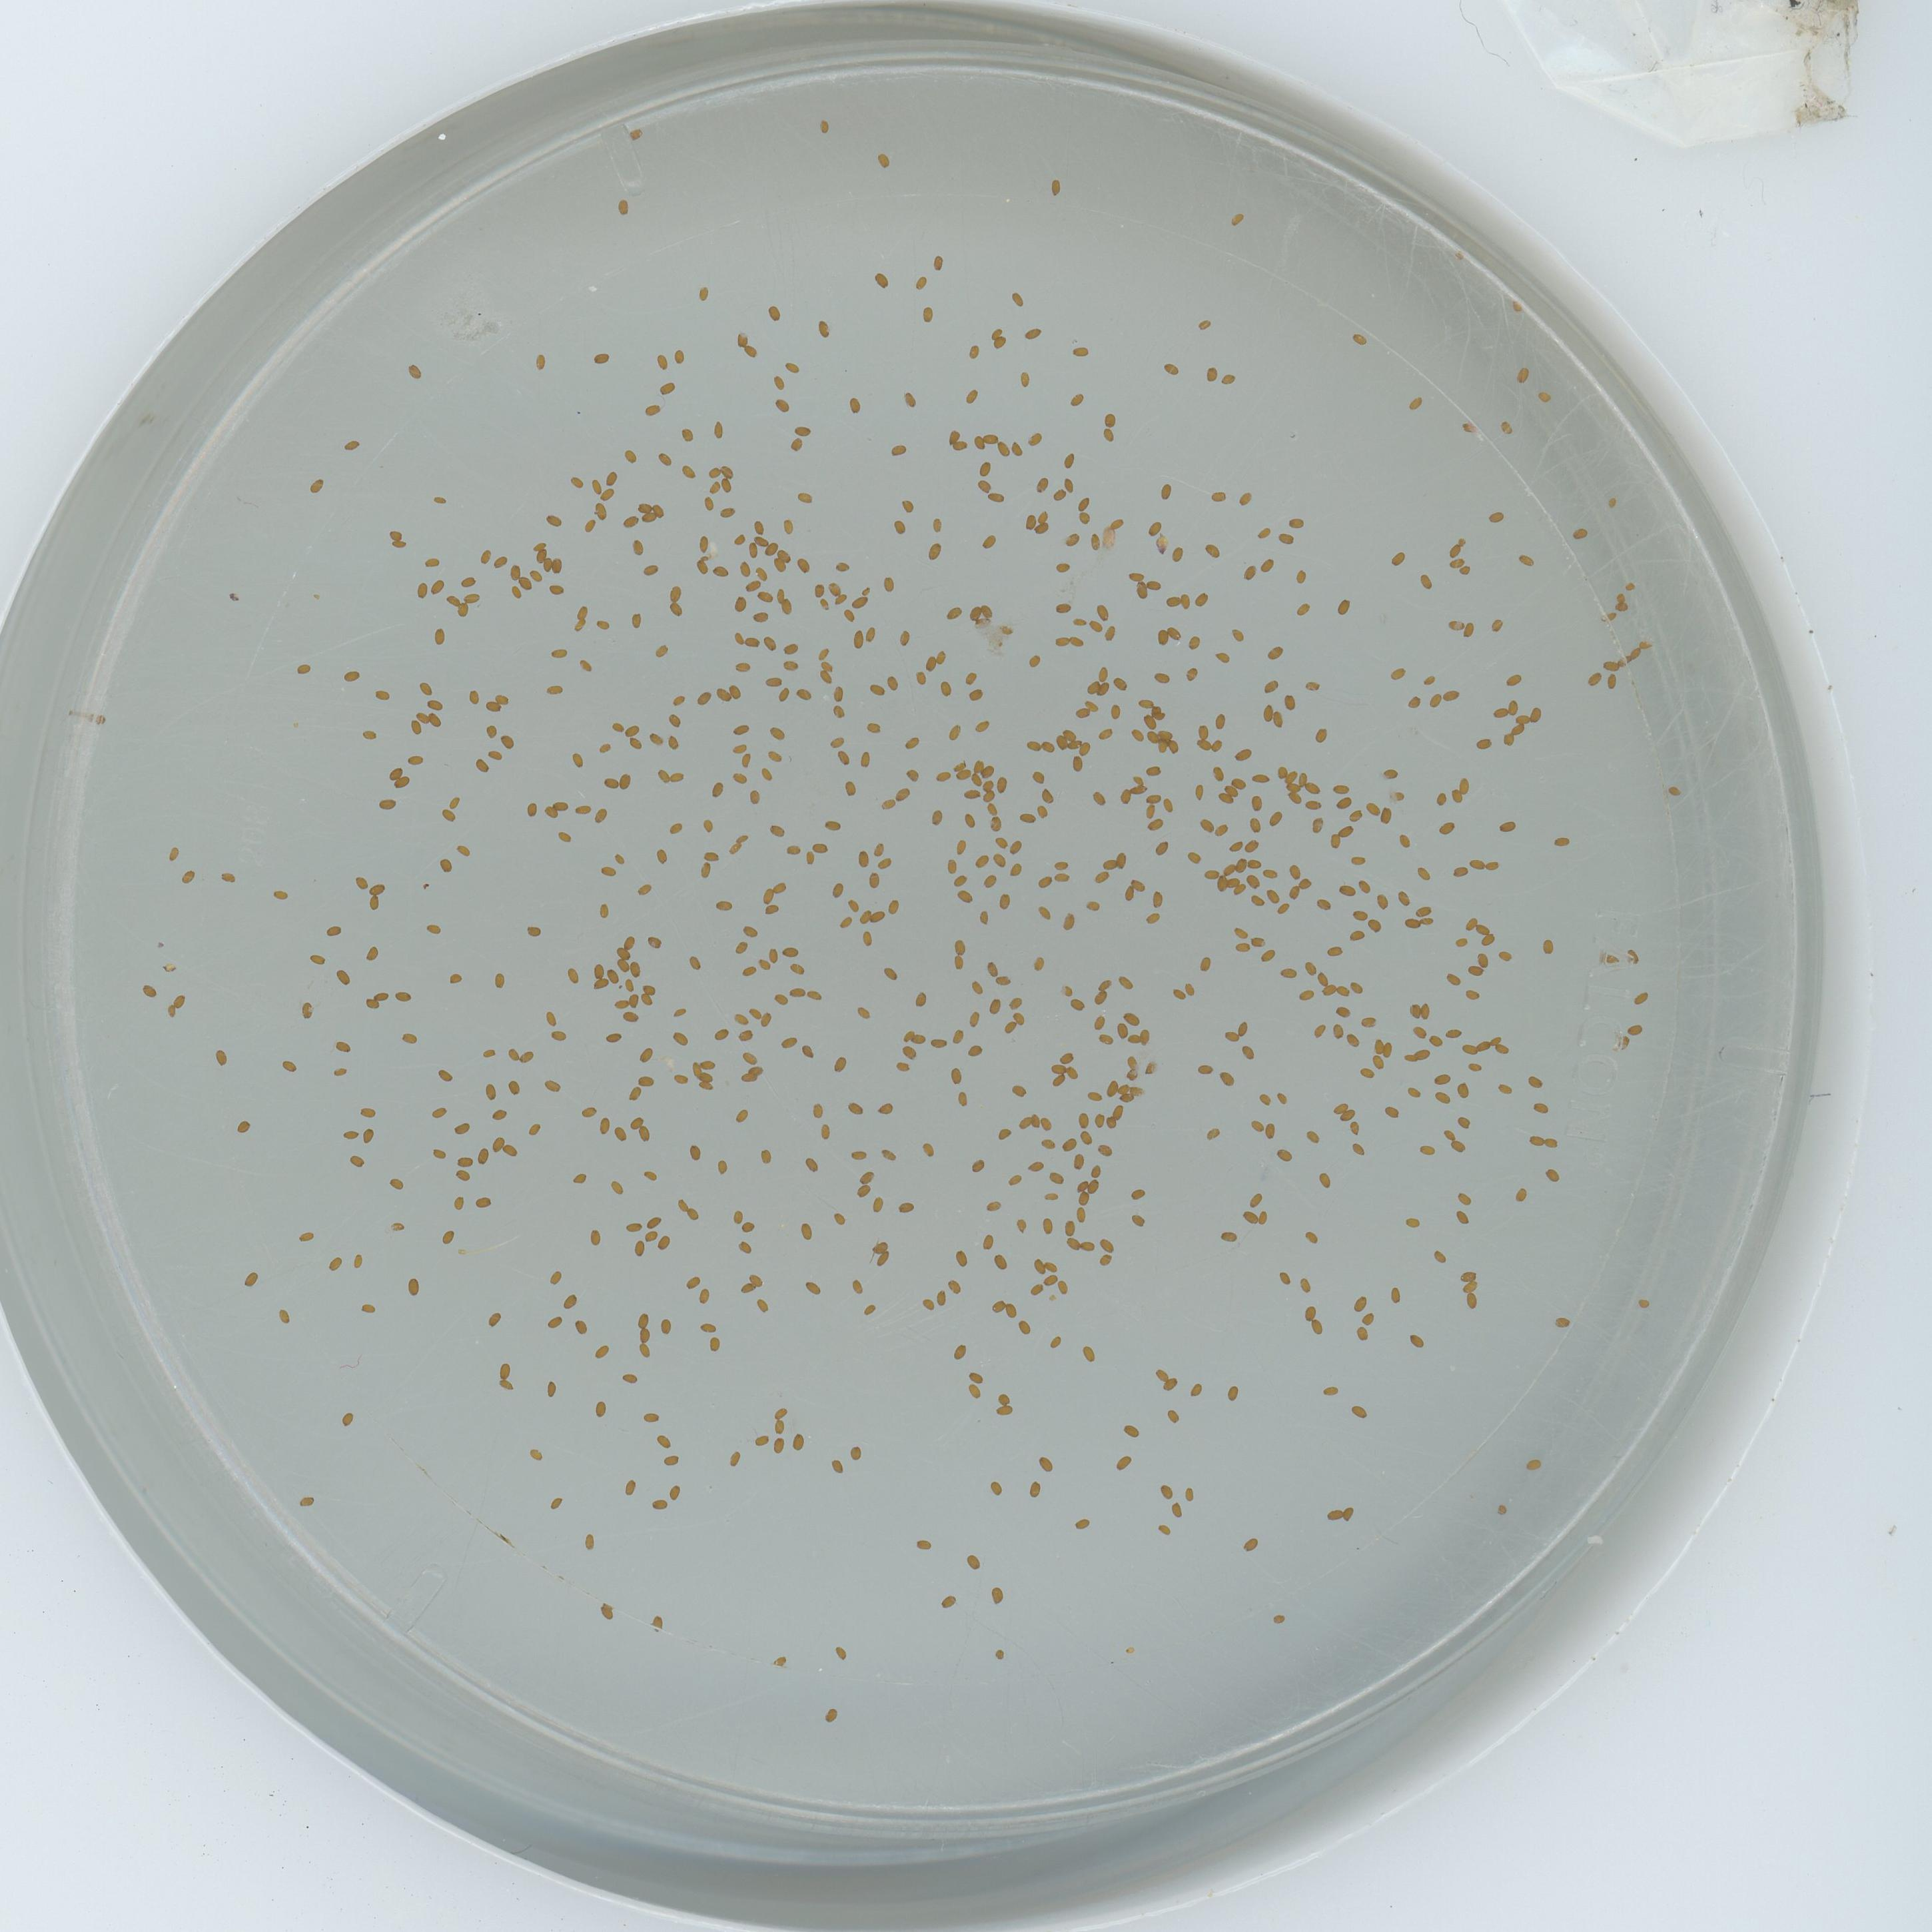seed: (872, 269, 893, 288), (814, 318, 833, 338), (987, 1585, 1007, 1605), (715, 895, 734, 913), (543, 511, 563, 529), (430, 626, 448, 646), (796, 685, 816, 702), (732, 594, 752, 612), (849, 628, 867, 648), (950, 872, 970, 890), (924, 541, 943, 559), (798, 1221, 817, 1238), (403, 1276, 421, 1295), (695, 1286, 715, 1304), (952, 1249, 970, 1269), (1279, 694, 1299, 711), (1201, 540, 1221, 557), (1058, 913, 1077, 931), (1024, 1155, 1044, 1173), (1014, 1316, 1033, 1334), (1217, 1069, 1237, 1086), (1350, 1401, 1369, 1419), (1077, 1345, 1097, 1362), (1113, 1453, 1132, 1470), (1316, 1169, 1332, 1191), (741, 920, 759, 938), (660, 379, 678, 396), (773, 395, 791, 412), (425, 695, 442, 713), (430, 577, 448, 594), (667, 584, 685, 602), (867, 872, 885, 890), (341, 667, 359, 685), (842, 780, 860, 798), (855, 851, 872, 869), (458, 571, 476, 589), (784, 639, 801, 656), (763, 633, 780, 651), (782, 941, 800, 959), (343, 435, 361, 453), (895, 630, 913, 648), (770, 724, 787, 741), (695, 534, 713, 552), (759, 888, 777, 906), (418, 679, 435, 697), (591, 1399, 609, 1417), (901, 1042, 918, 1060), (481, 1081, 499, 1099), (651, 1495, 669, 1513), (626, 1083, 644, 1100), (474, 1146, 492, 1164), (832, 1053, 849, 1070), (561, 1292, 579, 1309), (580, 1532, 598, 1550), (333, 968, 350, 985), (170, 991, 188, 1008), (543, 1380, 561, 1398), (847, 1099, 865, 1116), (359, 1100, 377, 1118), (855, 1003, 872, 1021), (571, 1316, 589, 1334), (598, 1603, 616, 1621), (1394, 890, 1412, 908), (1315, 895, 1332, 913), (1334, 794, 1352, 812), (1023, 324, 1040, 341), (1148, 892, 1166, 909), (1438, 819, 1456, 837), (1414, 901, 1431, 918), (1529, 706, 1546, 724), (1093, 603, 1111, 621), (1499, 817, 1516, 835), (1033, 474, 1051, 492), (1334, 598, 1352, 616), (1476, 952, 1493, 970), (980, 533, 998, 550), (1378, 807, 1396, 824), (1247, 793, 1265, 810), (1155, 483, 1173, 501), (1263, 888, 1281, 906), (1276, 529, 1293, 547), (1539, 938, 1557, 955), (1067, 755, 1085, 773), (1410, 1021, 1428, 1039), (994, 1389, 1012, 1407), (1122, 1421, 1139, 1438), (1297, 1276, 1315, 1293), (1545, 1164, 1562, 1182), (985, 996, 1003, 1014), (1454, 1111, 1472, 1129), (1035, 1454, 1053, 1472), (1433, 1067, 1451, 1085), (1527, 1129, 1545, 1146), (1297, 985, 1315, 1003), (1384, 1100, 1401, 1118), (1074, 1111, 1092, 1129), (766, 672, 786, 688), (872, 1238, 892, 1254), (791, 1433, 807, 1453), (741, 1049, 761, 1065), (671, 1028, 690, 1044), (685, 1143, 704, 1159), (1330, 780, 1350, 796), (1336, 885, 1355, 901), (1346, 927, 1366, 943), (1244, 817, 1263, 833), (1063, 531, 1083, 547), (1325, 941, 1345, 957), (1127, 727, 1146, 743), (1230, 924, 1249, 939), (1350, 908, 1369, 924), (955, 890, 975, 906), (1445, 1023, 1465, 1039), (1274, 1145, 1293, 1161), (1046, 1168, 1065, 1184), (1460, 1039, 1479, 1054), (1070, 1152, 1086, 1171), (1514, 366, 1530, 386), (1509, 295, 1525, 315), (587, 1228, 602, 1249), (734, 660, 752, 676), (271, 886, 288, 902), (796, 557, 814, 573), (594, 502, 610, 520), (499, 734, 517, 750), (890, 441, 908, 456), (752, 609, 770, 625), (658, 449, 674, 467), (794, 421, 812, 437), (945, 605, 962, 621), (653, 354, 671, 370), (600, 865, 617, 881), (370, 879, 387, 895), (901, 391, 918, 407), (594, 809, 612, 824), (446, 794, 464, 810), (485, 701, 502, 717), (635, 497, 653, 513), (835, 559, 853, 575), (179, 869, 196, 885), (324, 922, 341, 938), (573, 603, 591, 619), (379, 796, 396, 812), (812, 839, 830, 855), (591, 349, 609, 364), (936, 679, 954, 695), (867, 681, 885, 697), (858, 752, 876, 768), (644, 402, 662, 418), (472, 759, 490, 775), (667, 602, 685, 617), (695, 690, 713, 706), (881, 577, 899, 593), (423, 554, 441, 570), (757, 766, 775, 782), (920, 306, 936, 324), (755, 589, 773, 605), (575, 801, 591, 819), (750, 518, 768, 534), (695, 559, 713, 575), (352, 874, 370, 890), (731, 771, 748, 787), (709, 782, 727, 798), (780, 518, 798, 534), (628, 612, 646, 628), (895, 786, 911, 803), (524, 801, 541, 817), (832, 685, 847, 702), (713, 561, 729, 579), (603, 469, 621, 485), (547, 681, 564, 697), (832, 704, 849, 720), (602, 775, 619, 791), (766, 303, 782, 320), (361, 727, 379, 743), (929, 253, 945, 271), (405, 752, 423, 768), (363, 945, 380, 961), (709, 421, 727, 437), (770, 823, 787, 839), (876, 150, 893, 166), (764, 902, 782, 918), (812, 580, 828, 598), (550, 646, 568, 662), (646, 932, 663, 948), (533, 354, 550, 370), (747, 789, 764, 805), (847, 396, 865, 412), (858, 929, 874, 947), (734, 939, 752, 955), (745, 543, 763, 559), (492, 554, 510, 570), (308, 478, 326, 494), (927, 810, 945, 826), (878, 856, 895, 872), (738, 754, 755, 770), (621, 932, 639, 948), (407, 361, 423, 379), (881, 1145, 899, 1161), (646, 1214, 663, 1230), (453, 1118, 471, 1134), (580, 1100, 598, 1116), (506, 1081, 524, 1097), (593, 1343, 610, 1359), (878, 1099, 895, 1115), (639, 1044, 656, 1060), (456, 1152, 474, 1168), (547, 1313, 564, 1329), (594, 1118, 612, 1134), (685, 1272, 702, 1288), (621, 1368, 639, 1384), (734, 1106, 752, 1122), (474, 1192, 492, 1208), (734, 1010, 752, 1026), (430, 1102, 448, 1118), (672, 1069, 690, 1085), (341, 1123, 359, 1139), (333, 1037, 350, 1053), (276, 1306, 292, 1323), (851, 1145, 869, 1161), (736, 1238, 754, 1254), (140, 982, 157, 998), (947, 1065, 962, 1083), (520, 1047, 538, 1063), (803, 1279, 821, 1295), (639, 1070, 656, 1086), (915, 1537, 932, 1553), (487, 1309, 504, 1325), (823, 1707, 839, 1725), (453, 1166, 471, 1182), (437, 1065, 453, 1083), (849, 1444, 867, 1460), (211, 1047, 228, 1063), (241, 1270, 258, 1286), (543, 1076, 561, 1092), (297, 1001, 315, 1017), (280, 1056, 297, 1072), (715, 1023, 732, 1039), (911, 991, 929, 1007), (830, 1458, 847, 1474), (621, 1479, 639, 1495), (757, 1146, 775, 1162), (939, 1592, 957, 1608), (805, 1155, 823, 1171), (655, 1433, 672, 1449), (876, 1251, 893, 1267), (400, 1028, 418, 1044), (810, 1100, 828, 1116), (297, 1491, 313, 1509), (740, 1069, 757, 1085), (1304, 780, 1322, 796), (1261, 867, 1279, 883), (1325, 835, 1343, 851), (1203, 364, 1219, 382), (1136, 694, 1154, 709), (1095, 725, 1113, 741), (1067, 391, 1085, 407), (996, 893, 1014, 909), (977, 458, 993, 476), (1146, 819, 1164, 835), (1246, 874, 1263, 890), (1350, 331, 1368, 347), (1060, 451, 1077, 467), (1258, 557, 1276, 573), (1348, 853, 1366, 869), (1111, 676, 1129, 692), (1129, 878, 1146, 893), (1168, 547, 1185, 563), (1476, 734, 1493, 750), (1389, 550, 1407, 566), (1233, 747, 1251, 763), (1049, 487, 1067, 502), (1168, 625, 1184, 642), (1251, 771, 1269, 787), (1311, 727, 1327, 745), (1008, 863, 1026, 879), (1194, 315, 1210, 333), (1035, 876, 1053, 892), (1185, 849, 1203, 865), (982, 874, 1000, 890), (1267, 646, 1284, 662), (1192, 591, 1210, 607), (1286, 513, 1304, 529), (1016, 810, 1033, 826), (1265, 812, 1283, 828), (1210, 766, 1228, 782), (1373, 893, 1391, 909), (1185, 633, 1201, 651), (1210, 488, 1228, 504), (1152, 669, 1169, 685), (1235, 490, 1253, 506), (1258, 947, 1276, 962), (1486, 510, 1504, 525), (1143, 763, 1161, 778), (991, 853, 1008, 869), (1362, 801, 1380, 817), (1145, 577, 1162, 593), (1506, 672, 1523, 688), (1099, 410, 1116, 426), (1196, 817, 1214, 833), (1553, 833, 1571, 849), (1159, 798, 1177, 814), (1491, 704, 1509, 720), (1258, 704, 1274, 722), (1389, 665, 1407, 681), (1587, 669, 1603, 686), (1518, 550, 1536, 566), (1309, 817, 1327, 833), (1421, 672, 1438, 688), (1230, 775, 1247, 791), (1458, 777, 1474, 794), (1192, 724, 1210, 740), (1201, 867, 1219, 883), (1304, 798, 1322, 814), (1447, 616, 1465, 632), (1024, 430, 1042, 446), (1093, 665, 1111, 681), (987, 817, 1005, 833), (1008, 290, 1026, 306), (1014, 372, 1031, 387), (1085, 619, 1102, 635), (1060, 476, 1077, 492), (1047, 179, 1063, 196), (1601, 656, 1619, 672), (1083, 679, 1100, 695), (1445, 543, 1463, 559), (1122, 1008, 1139, 1024), (1168, 1500, 1184, 1518), (991, 1253, 1008, 1269), (1129, 1212, 1146, 1228), (1431, 1247, 1449, 1263), (1302, 1228, 1320, 1244), (1525, 1070, 1543, 1086), (1532, 1099, 1550, 1115), (1024, 1481, 1042, 1497), (1332, 1001, 1350, 1017), (1242, 1536, 1260, 1552), (1187, 1380, 1203, 1398), (987, 1479, 1005, 1495), (1060, 1221, 1077, 1237), (1408, 1330, 1424, 1348), (1389, 1286, 1405, 1304), (1440, 1125, 1458, 1141), (1072, 1514, 1090, 1530), (1350, 1139, 1368, 1155), (1164, 1407, 1182, 1422), (1454, 1083, 1472, 1099), (1219, 1228, 1237, 1244), (1307, 1318, 1325, 1334), (1238, 1042, 1256, 1058), (1092, 989, 1109, 1005), (1007, 994, 1024, 1010), (1626, 1019, 1644, 1035), (1224, 1384, 1240, 1401), (1460, 1267, 1477, 1283), (1353, 1325, 1371, 1341), (1433, 1088, 1451, 1104), (1276, 1269, 1293, 1284), (1254, 1090, 1272, 1106), (1371, 1053, 1387, 1070), (1553, 1313, 1571, 1329), (1136, 1028, 1154, 1044), (1109, 1102, 1125, 1120), (1525, 1458, 1543, 1474), (1615, 1035, 1633, 1051), (1624, 948, 1640, 966), (1389, 787, 1407, 803), (570, 619, 587, 635), (947, 426, 961, 446), (492, 971, 506, 991), (955, 1088, 970, 1108), (984, 1200, 1003, 1214), (1031, 1256, 1046, 1276), (1341, 1504, 1355, 1523), (1330, 1100, 1350, 1115), (1414, 1046, 1433, 1060), (998, 623, 1017, 637), (904, 734, 920, 750), (826, 817, 842, 833), (888, 899, 904, 915), (943, 858, 959, 874), (842, 607, 858, 623), (787, 842, 803, 858), (904, 768, 920, 784), (886, 676, 902, 692), (426, 920, 442, 936), (893, 518, 909, 534), (594, 617, 610, 633), (617, 775, 633, 791), (295, 660, 311, 676), (669, 821, 685, 837), (837, 750, 853, 766), (771, 373, 787, 389), (667, 736, 683, 752), (786, 359, 801, 375), (832, 883, 847, 899), (695, 283, 711, 299), (437, 858, 453, 874), (732, 531, 748, 547), (483, 724, 499, 740), (456, 842, 472, 858), (899, 497, 915, 513), (679, 464, 695, 479), (548, 580, 564, 596), (745, 633, 761, 649), (679, 426, 695, 442), (883, 798, 899, 814), (467, 688, 483, 704), (699, 863, 715, 879), (653, 849, 669, 865), (412, 582, 428, 598), (947, 725, 962, 741), (734, 722, 750, 738), (736, 559, 752, 575), (715, 686, 731, 702), (929, 517, 945, 533), (570, 474, 586, 490), (936, 770, 952, 786), (798, 488, 814, 504), (865, 626, 881, 642), (828, 580, 844, 596), (782, 660, 798, 676), (596, 740, 612, 755), (791, 435, 807, 451), (701, 817, 717, 833), (720, 462, 736, 478), (934, 651, 950, 667), (872, 842, 888, 858), (729, 683, 745, 699), (743, 343, 759, 359), (832, 732, 847, 748), (704, 847, 720, 863), (816, 646, 832, 662), (616, 198, 632, 214), (839, 913, 855, 929), (667, 713, 683, 729), (706, 464, 722, 479), (478, 548, 494, 564), (745, 577, 761, 593), (734, 331, 750, 347), (550, 557, 566, 573), (780, 600, 796, 616), (219, 869, 235, 885), (441, 810, 456, 826), (614, 945, 630, 961), (732, 740, 748, 755), (165, 847, 180, 863), (817, 119, 833, 134), (856, 1184, 872, 1200), (782, 1033, 798, 1049), (895, 1058, 911, 1074), (870, 1196, 886, 1212), (950, 1343, 966, 1359), (931, 1033, 947, 1049), (761, 1012, 777, 1028), (527, 1445, 543, 1461), (899, 1198, 915, 1214), (235, 1116, 251, 1132), (359, 1127, 375, 1143), (349, 1152, 364, 1168), (883, 966, 899, 982), (327, 1254, 343, 1270), (497, 1362, 513, 1378), (663, 1453, 679, 1468), (543, 1008, 559, 1024), (715, 1157, 731, 1173), (773, 1403, 789, 1419), (550, 1026, 566, 1042), (297, 1228, 313, 1244), (626, 1217, 642, 1233), (338, 1410, 354, 1426), (605, 1028, 621, 1044), (800, 1042, 816, 1058), (658, 1233, 674, 1249), (667, 1484, 683, 1500), (632, 1238, 648, 1254), (642, 1408, 658, 1424), (755, 1297, 771, 1313), (502, 1141, 518, 1157), (920, 1295, 936, 1311), (642, 1166, 658, 1182), (441, 1228, 456, 1244), (639, 1123, 655, 1139), (708, 1336, 724, 1352), (547, 1269, 563, 1284), (773, 1419, 789, 1435), (727, 1451, 743, 1467), (612, 1127, 628, 1143), (817, 1123, 833, 1139), (564, 968, 580, 984), (934, 1290, 950, 1306), (331, 1062, 347, 1077), (635, 1313, 651, 1329), (571, 1168, 587, 1184), (637, 1341, 653, 1357), (748, 1003, 764, 1019), (359, 1299, 375, 1315), (748, 1062, 764, 1077), (773, 1652, 789, 1668), (1141, 803, 1157, 819), (973, 853, 989, 869), (1415, 867, 1431, 883), (1468, 856, 1484, 872), (970, 435, 985, 451), (1230, 626, 1246, 642), (975, 478, 991, 494), (1085, 897, 1100, 913), (993, 833, 1008, 849), (1214, 649, 1230, 665), (1357, 879, 1373, 895), (1053, 559, 1069, 575), (1021, 513, 1037, 529), (1490, 617, 1506, 633), (1146, 520, 1162, 536), (1338, 823, 1353, 839), (1382, 764, 1398, 780), (1152, 840, 1168, 856), (1453, 865, 1468, 881), (982, 428, 998, 444), (1145, 909, 1161, 925), (1085, 534, 1100, 550), (1090, 791, 1106, 807), (968, 688, 984, 704), (1219, 372, 1235, 387), (1024, 653, 1040, 669), (1074, 495, 1090, 511), (1233, 938, 1249, 954), (1254, 524, 1270, 540), (1132, 584, 1148, 600), (966, 343, 982, 359), (1212, 713, 1228, 729), (1244, 839, 1260, 855), (1106, 704, 1122, 720), (1053, 872, 1069, 888), (1396, 833, 1412, 849), (1053, 600, 1069, 616), (1008, 840, 1024, 856), (1108, 515, 1123, 531), (1033, 805, 1049, 821), (1484, 858, 1500, 874), (1286, 863, 1302, 879), (1497, 947, 1513, 962), (1417, 573, 1433, 589), (980, 763, 996, 778), (1407, 395, 1422, 410), (1152, 630, 1168, 646), (1024, 738, 1040, 754), (977, 909, 993, 925), (1240, 564, 1256, 580), (1099, 426, 1115, 442), (1166, 740, 1182, 755), (1270, 713, 1286, 729), (1214, 823, 1230, 839), (1603, 674, 1619, 690), (1113, 853, 1129, 869), (1100, 856, 1116, 872), (1062, 725, 1077, 741), (1037, 787, 1053, 803), (1033, 904, 1049, 920), (1461, 915, 1477, 931), (993, 777, 1008, 793), (1246, 855, 1261, 870), (1228, 211, 1244, 226), (987, 322, 1003, 338), (1131, 782, 1146, 798), (1352, 1295, 1368, 1311), (1345, 1031, 1361, 1047), (1465, 985, 1481, 1001), (1007, 1169, 1023, 1185), (1428, 1031, 1444, 1047), (1067, 996, 1083, 1012), (1361, 1012, 1376, 1028), (1155, 1522, 1171, 1537), (1077, 1129, 1093, 1145), (966, 1553, 982, 1569), (1456, 1189, 1472, 1205), (1325, 1506, 1341, 1522), (968, 1368, 984, 1384), (1196, 1058, 1212, 1074), (1097, 1141, 1113, 1157), (989, 1297, 1005, 1313), (1359, 1063, 1375, 1079), (980, 1235, 996, 1251), (1322, 1382, 1338, 1398), (1046, 1334, 1062, 1350), (1157, 1483, 1173, 1499), (1063, 1063, 1079, 1079), (1329, 1023, 1345, 1039), (1039, 1219, 1054, 1235), (1180, 1486, 1196, 1502), (1003, 1302, 1019, 1318), (1346, 1120, 1362, 1136), (1513, 1185, 1529, 1201), (996, 1123, 1012, 1139), (1633, 989, 1649, 1005), (966, 1384, 982, 1399), (1205, 1125, 1221, 1141), (1405, 1083, 1421, 1099), (1300, 1306, 1316, 1322), (1465, 1292, 1481, 1307), (1263, 1123, 1279, 1139), (1311, 1023, 1327, 1039), (970, 980, 985, 996), (996, 1403, 1012, 1419), (966, 1040, 982, 1056), (1085, 1086, 1100, 1102), (1037, 1115, 1053, 1131), (1104, 1081, 1120, 1097), (1242, 1208, 1258, 1224), (1419, 1141, 1435, 1157), (970, 1157, 985, 1173), (1162, 1376, 1178, 1392), (1152, 1366, 1168, 1382), (1497, 1079, 1513, 1095), (966, 1012, 982, 1028), (1247, 1191, 1263, 1207), (1361, 1309, 1376, 1325), (1300, 959, 1316, 975), (1168, 985, 1184, 1001), (1254, 1208, 1270, 1224), (1123, 1053, 1139, 1069), (1270, 1612, 1286, 1628), (1499, 419, 1514, 435), (616, 957, 632, 973), (92, 711, 108, 727), (846, 897, 863, 911), (308, 950, 326, 964), (373, 688, 391, 702), (653, 644, 671, 658), (766, 750, 784, 764), (364, 897, 382, 911), (911, 672, 929, 686), (630, 540, 648, 554), (642, 563, 660, 577), (598, 901, 612, 918), (833, 594, 851, 609), (464, 591, 481, 605), (701, 497, 718, 511), (734, 832, 752, 846), (849, 1279, 867, 1293), (920, 1145, 938, 1159), (858, 1169, 876, 1184), (832, 1210, 849, 1224), (628, 1115, 646, 1129), (393, 989, 410, 1003), (809, 987, 826, 1001), (525, 1122, 543, 1136), (833, 1645, 851, 1660), (740, 1281, 757, 1295), (593, 977, 610, 991), (741, 966, 759, 980), (497, 1378, 515, 1392), (740, 1217, 757, 1231), (612, 994, 630, 1008), (672, 1003, 690, 1017), (1161, 361, 1178, 375), (1070, 345, 1088, 359), (1260, 679, 1277, 694), (1226, 839, 1244, 853), (1161, 594, 1178, 609), (1051, 858, 1069, 872), (962, 787, 980, 801), (1403, 916, 1421, 931), (1198, 955, 1212, 973), (1368, 918, 1385, 932), (1293, 602, 1311, 616), (1247, 895, 1265, 909), (1479, 932, 1497, 947), (1069, 614, 1086, 628), (1346, 809, 1364, 823), (1051, 633, 1069, 648), (1286, 793, 1304, 807), (1115, 791, 1132, 805), (994, 441, 1008, 458), (1474, 920, 1491, 934), (1215, 793, 1233, 807), (1026, 1281, 1044, 1295), (1070, 1207, 1088, 1221), (1010, 1081, 1028, 1095), (1279, 966, 1297, 980), (1454, 1212, 1472, 1226), (994, 973, 1012, 987), (1040, 1189, 1058, 1203), (1272, 1090, 1290, 1104), (1461, 1279, 1479, 1293), (1543, 1134, 1560, 1148), (1407, 1001, 1421, 1019), (1060, 1138, 1077, 1152), (1014, 1115, 1031, 1129), (1371, 1037, 1385, 1054), (1095, 1031, 1113, 1046), (1476, 1037, 1490, 1054), (1419, 1001, 1431, 1021), (1382, 1039, 1394, 1058), (1338, 1109, 1357, 1122), (718, 478, 734, 492), (487, 748, 502, 763), (602, 488, 617, 502), (720, 506, 736, 520), (625, 724, 640, 738), (913, 274, 929, 288), (819, 671, 835, 685), (621, 449, 637, 464), (775, 881, 789, 897), (637, 883, 653, 897), (867, 720, 883, 734), (428, 715, 444, 729), (610, 720, 626, 734), (508, 586, 524, 600), (407, 722, 423, 736), (623, 513, 639, 527), (642, 510, 658, 524), (648, 732, 663, 747), (612, 851, 626, 867), (582, 518, 598, 533), (706, 479, 722, 494), (671, 694, 686, 708), (387, 766, 403, 780), (557, 830, 573, 844), (525, 924, 541, 938), (853, 596, 869, 610), (672, 349, 688, 363), (952, 939, 966, 955), (628, 738, 644, 752), (387, 527, 403, 541), (554, 796, 570, 810), (543, 805, 559, 819), (579, 658, 594, 672), (570, 754, 586, 768), (508, 564, 522, 580), (777, 688, 793, 702), (414, 709, 430, 724), (817, 598, 833, 612), (764, 541, 780, 556), (529, 568, 545, 582), (755, 566, 771, 580), (628, 127, 644, 142), (858, 909, 874, 924), (518, 577, 534, 591), (766, 948, 782, 962), (481, 1044, 497, 1058), (623, 1008, 639, 1023), (451, 1194, 467, 1208), (748, 1272, 764, 1286), (862, 1302, 878, 1316), (448, 970, 462, 985), (492, 1106, 508, 1120), (349, 1253, 364, 1267), (701, 1318, 717, 1332), (731, 1207, 745, 1223), (646, 1226, 660, 1242), (490, 1136, 504, 1152), (791, 984, 807, 998), (754, 1431, 770, 1445), (658, 1320, 674, 1334), (738, 1028, 754, 1042), (430, 1145, 446, 1159), (548, 1495, 564, 1509), (610, 1178, 626, 1192), (701, 1053, 717, 1067), (771, 1438, 786, 1454), (947, 1279, 962, 1293), (387, 1175, 403, 1189), (699, 1069, 715, 1083), (591, 962, 605, 978), (674, 1198, 690, 1212), (628, 961, 642, 977), (688, 1062, 702, 1077), (649, 1615, 665, 1629), (1093, 872, 1109, 886), (1293, 570, 1309, 584), (1249, 932, 1265, 947), (1028, 770, 1044, 784), (1069, 635, 1085, 649), (1127, 568, 1143, 582), (1074, 511, 1090, 525), (1182, 667, 1198, 681), (1141, 715, 1157, 729), (1297, 878, 1313, 892), (1276, 901, 1292, 915), (1507, 699, 1522, 715), (987, 490, 1003, 504), (1210, 738, 1224, 754), (1444, 688, 1460, 702), (1191, 786, 1207, 800), (966, 389, 980, 405), (1102, 628, 1118, 642), (1178, 594, 1192, 610), (1407, 695, 1422, 709), (1514, 711, 1530, 725), (1500, 732, 1516, 747), (1454, 934, 1470, 948), (1284, 885, 1300, 899), (1304, 679, 1320, 694), (1461, 623, 1477, 637), (991, 334, 1007, 349), (1053, 736, 1069, 750), (1083, 697, 1099, 711), (1426, 694, 1442, 708), (966, 605, 980, 621), (1040, 740, 1054, 755), (1120, 888, 1136, 902), (1215, 876, 1230, 892), (968, 771, 982, 787), (1571, 525, 1587, 540), (1231, 858, 1247, 872), (1460, 419, 1476, 433), (1058, 1049, 1074, 1063), (1249, 1116, 1263, 1132), (1090, 1014, 1106, 1028), (1116, 975, 1132, 989), (1223, 1028, 1238, 1042), (1235, 1021, 1251, 1035), (1047, 1060, 1063, 1074), (1063, 1237, 1079, 1251), (1445, 971, 1461, 985), (1012, 1012, 1028, 1026), (1320, 984, 1336, 998), (1039, 1136, 1054, 1150), (1405, 1214, 1421, 1228), (1001, 1019, 1017, 1033), (1086, 1180, 1102, 1194), (1097, 1237, 1113, 1251), (1182, 980, 1198, 994), (1054, 1279, 1070, 1293), (1129, 1185, 1145, 1200), (1304, 1129, 1320, 1143), (1449, 1138, 1465, 1152), (1097, 1253, 1113, 1267), (1336, 984, 1352, 998), (985, 961, 1000, 977), (1079, 1238, 1095, 1253), (1049, 1074, 1065, 1088), (1086, 1162, 1102, 1177), (1315, 971, 1330, 985), (1123, 1031, 1139, 1046), (991, 1647, 1007, 1661), (1031, 957, 1046, 973), (1635, 1297, 1651, 1311), (1606, 950, 1621, 966), (1667, 784, 1683, 798), (1605, 497, 1621, 511), (1537, 389, 1553, 403), (757, 955, 771, 971), (432, 494, 448, 508), (393, 777, 410, 789), (911, 1031, 929, 1044), (697, 1079, 715, 1092), (1145, 793, 1162, 805), (1072, 708, 1090, 720), (1467, 1060, 1484, 1072), (1040, 1272, 1058, 1284), (1129, 1083, 1146, 1095), (955, 768, 973, 780), (1223, 784, 1240, 796), (589, 479, 603, 494), (773, 559, 787, 573), (495, 690, 510, 704), (653, 504, 667, 518), (446, 593, 460, 607), (456, 603, 471, 617), (671, 770, 685, 784), (731, 632, 745, 646), (870, 909, 885, 924), (656, 768, 671, 782), (952, 840, 966, 855), (729, 844, 743, 858), (534, 550, 548, 564), (775, 587, 789, 602), (623, 977, 637, 991), (773, 991, 787, 1005), (639, 1327, 653, 1341), (375, 987, 389, 1001), (504, 1046, 518, 1060), (950, 1030, 964, 1044), (901, 1028, 915, 1042), (646, 980, 660, 994), (1035, 510, 1049, 524), (1433, 793, 1447, 807), (1449, 791, 1463, 805), (1010, 442, 1024, 456), (975, 718, 989, 732), (985, 803, 1000, 817), (966, 671, 980, 685), (1077, 743, 1092, 757), (1284, 780, 1299, 794), (1196, 740, 1210, 754), (971, 759, 985, 773), (1014, 1219, 1028, 1233), (1058, 984, 1072, 998), (1076, 1192, 1090, 1207), (1076, 1178, 1090, 1192), (1097, 975, 1111, 989), (1145, 1060, 1159, 1074), (1223, 863, 1237, 878), (1131, 771, 1145, 786), (686, 957, 702, 970), (531, 540, 547, 552), (950, 439, 966, 451), (952, 761, 968, 773), (363, 996, 379, 1008), (686, 1207, 702, 1219), (607, 970, 623, 982), (1511, 724, 1527, 736), (1449, 556, 1465, 568), (1157, 729, 1173, 741), (1095, 683, 1111, 695), (1116, 1023, 1129, 1039), (1093, 1113, 1106, 1129), (1495, 1042, 1511, 1054), (1488, 1033, 1504, 1046), (1228, 876, 1244, 888), (1067, 738, 1083, 750), (389, 540, 407, 550), (628, 991, 639, 1008), (1467, 966, 1484, 977), (1030, 1111, 1040, 1129), (803, 853, 817, 865), (924, 656, 936, 671), (821, 660, 835, 672), (778, 550, 793, 563), (755, 534, 768, 548), (541, 557, 554, 571), (639, 993, 653, 1005), (982, 789, 996, 801), (1145, 731, 1159, 743), (1150, 704, 1162, 718), (1350, 980, 1364, 993), (1044, 1260, 1058, 1272), (1104, 1115, 1116, 1129), (1120, 1092, 1134, 1104), (1405, 1053, 1419, 1065), (1495, 1504, 1509, 1516), (1297, 771, 1309, 786), (1638, 639, 1652, 651), (1125, 1069, 1139, 1081), (1155, 740, 1168, 754), (980, 605, 993, 619), (391, 1221, 405, 1233), (1033, 524, 1049, 534), (1276, 764, 1286, 780), (964, 812, 975, 828), (1233, 885, 1249, 895), (1617, 656, 1633, 667), (1601, 610, 1617, 621), (1615, 602, 1631, 612), (1614, 593, 1629, 603), (791, 966, 809, 975), (954, 957, 966, 970), (1422, 916, 1435, 929), (982, 780, 994, 793), (1284, 770, 1297, 782), (1629, 648, 1642, 660), (1154, 711, 1168, 722), (1458, 566, 1474, 575), (166, 1007, 177, 1019), (1458, 536, 1468, 548), (1120, 1083, 1129, 1095)
